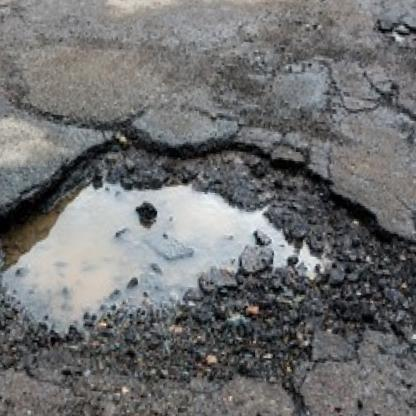pothole: (0, 112, 397, 404), (375, 19, 416, 49)
